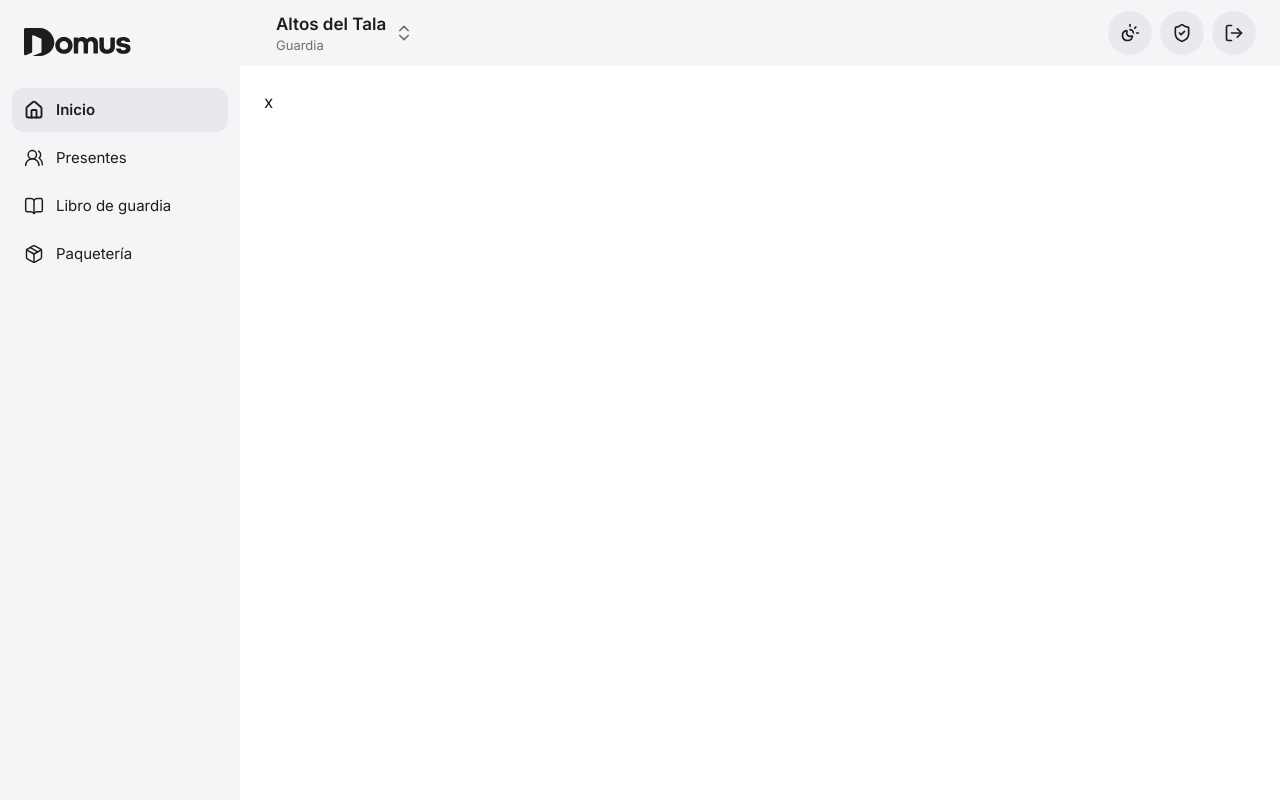
Test: AppShell › closes the context list when pressing outside
Click the button named "Cambiar de contexto": (331, 24) [264,8,1100,58]
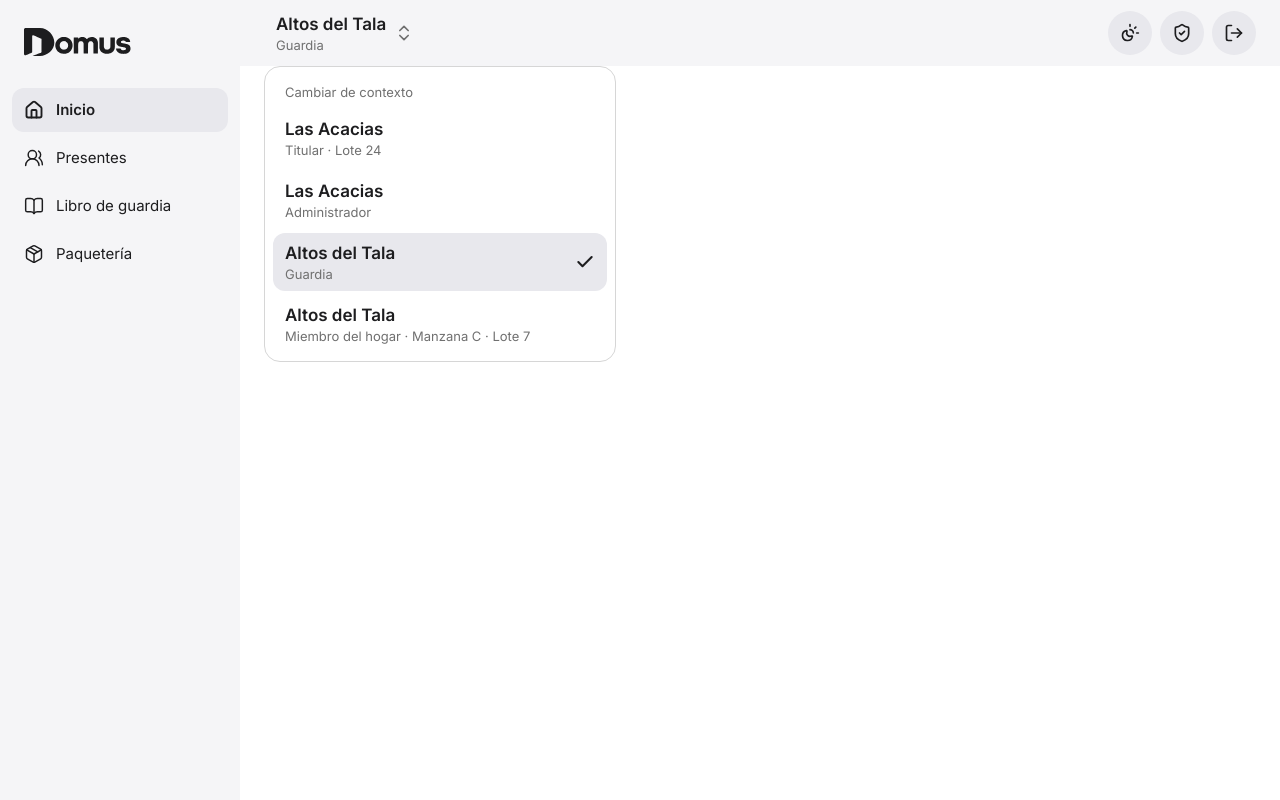
Press the mouse on the element that starts with "Inicio": (640, 400) [0,0,1279,799]
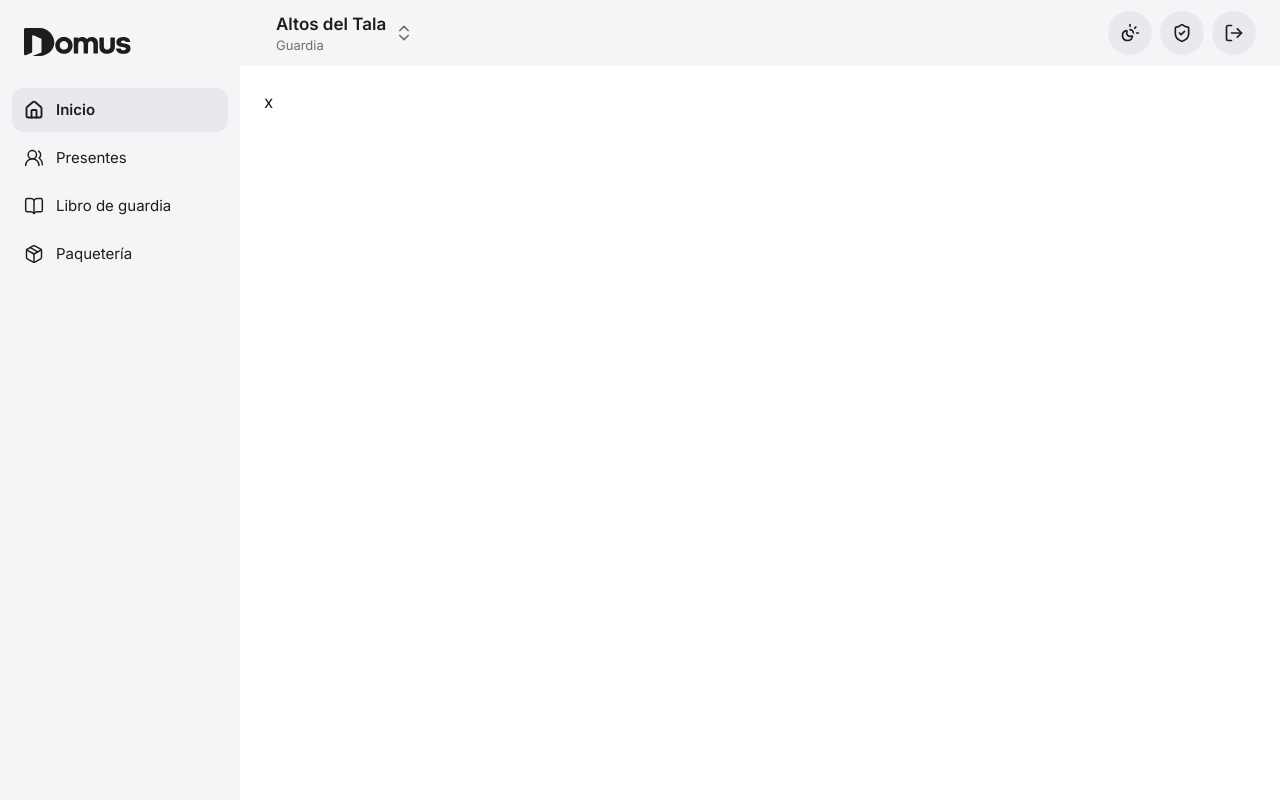
Check: the text "Cambiar de contexto" is gone
